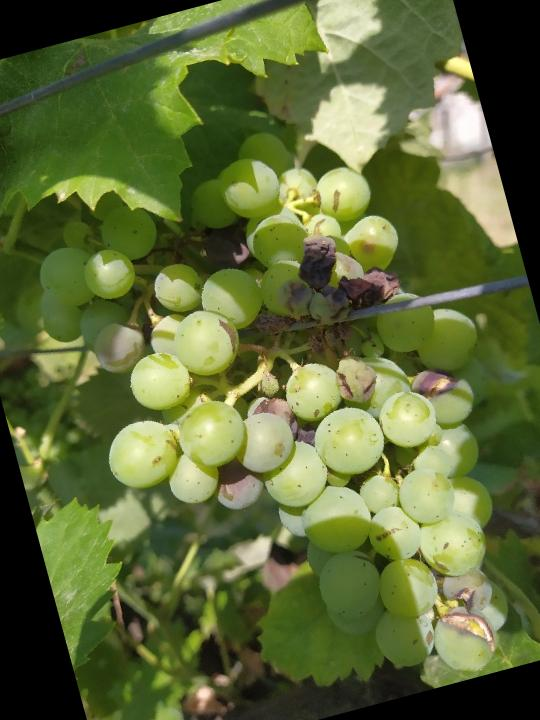grape: (7, 91, 540, 720)
